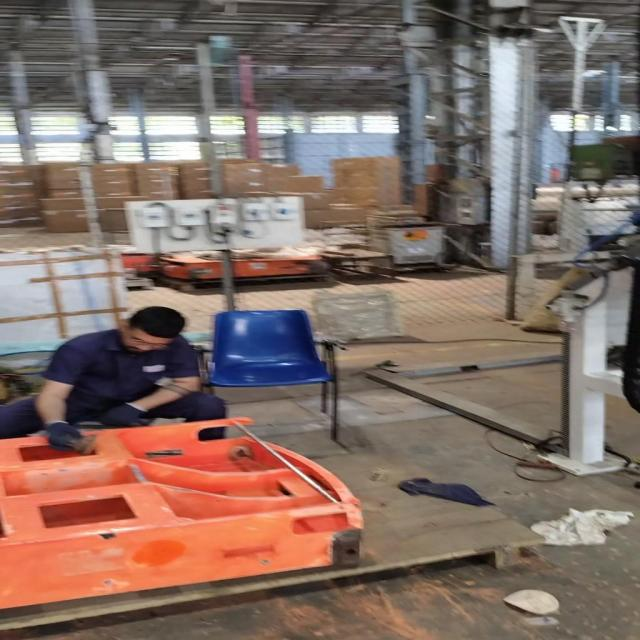Gloves-Detection: (45, 423, 94, 455), (102, 402, 144, 429)
